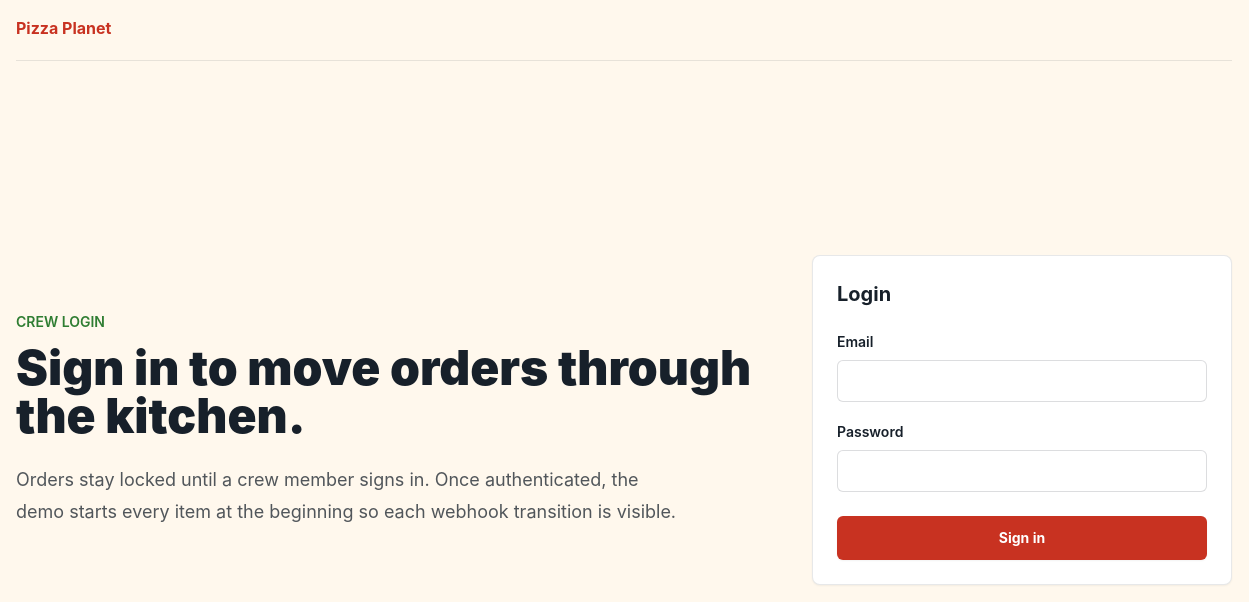
it: HomePage › keeps the user authenticated when initial order loading fails
Type "mario@pizzaplanet.test" into the field named "email" at (1022, 380), box [837,360,1207,402]
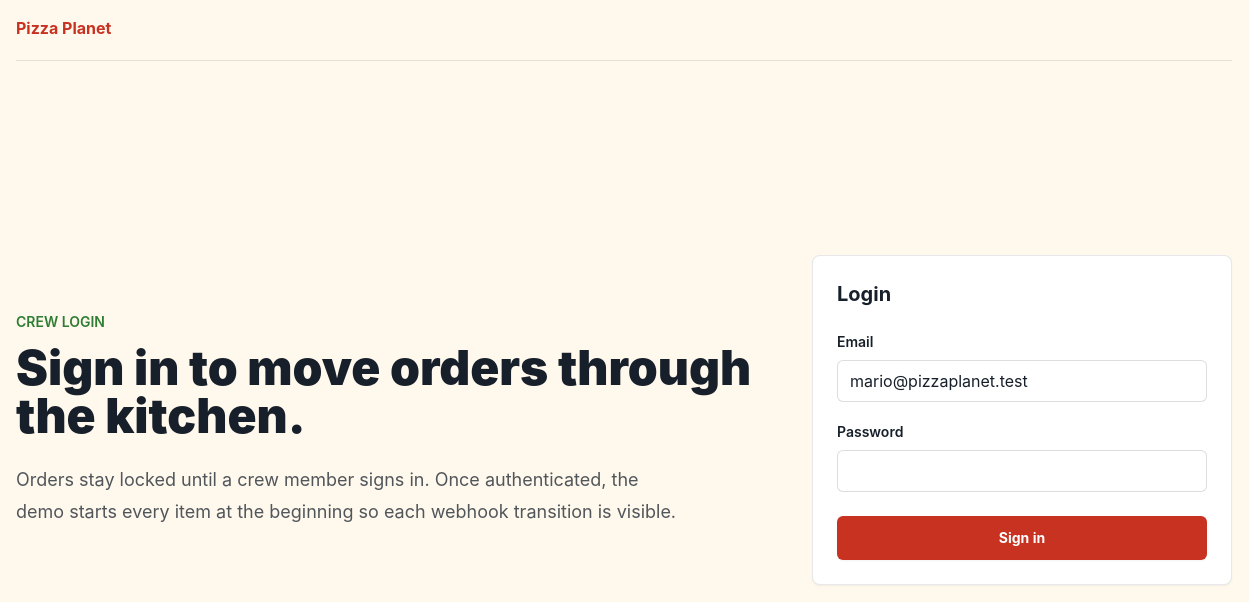
Type "ilovepizza" into the password field named "password" at (1022, 470), box [837,450,1207,492]
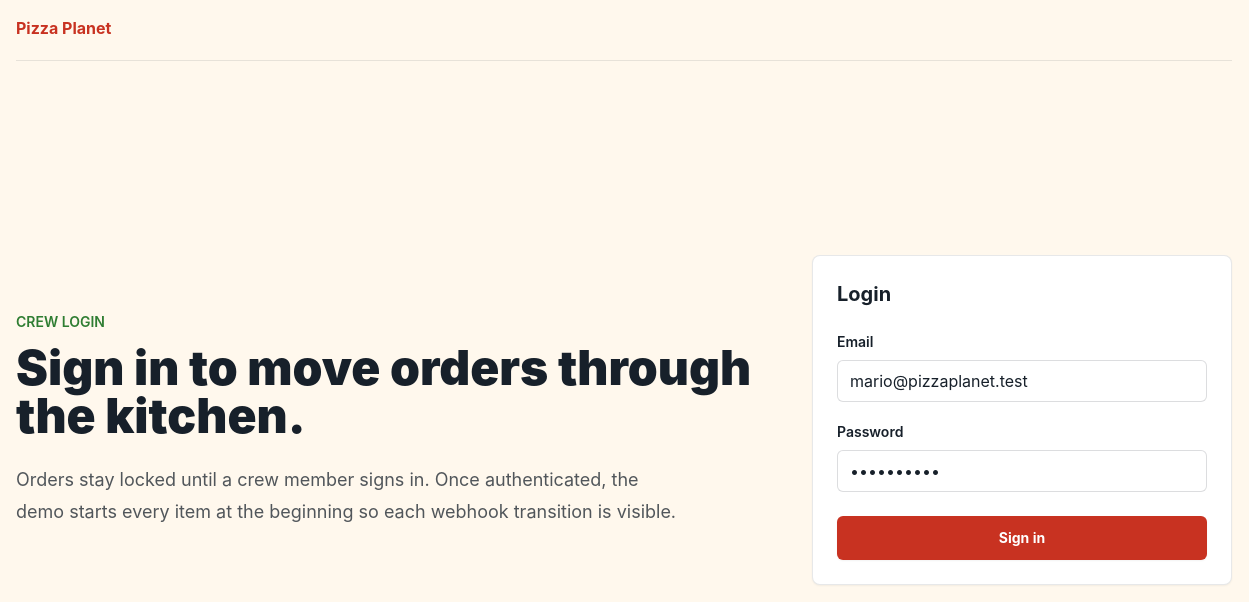
Submit the form, box [812,254,1232,584]
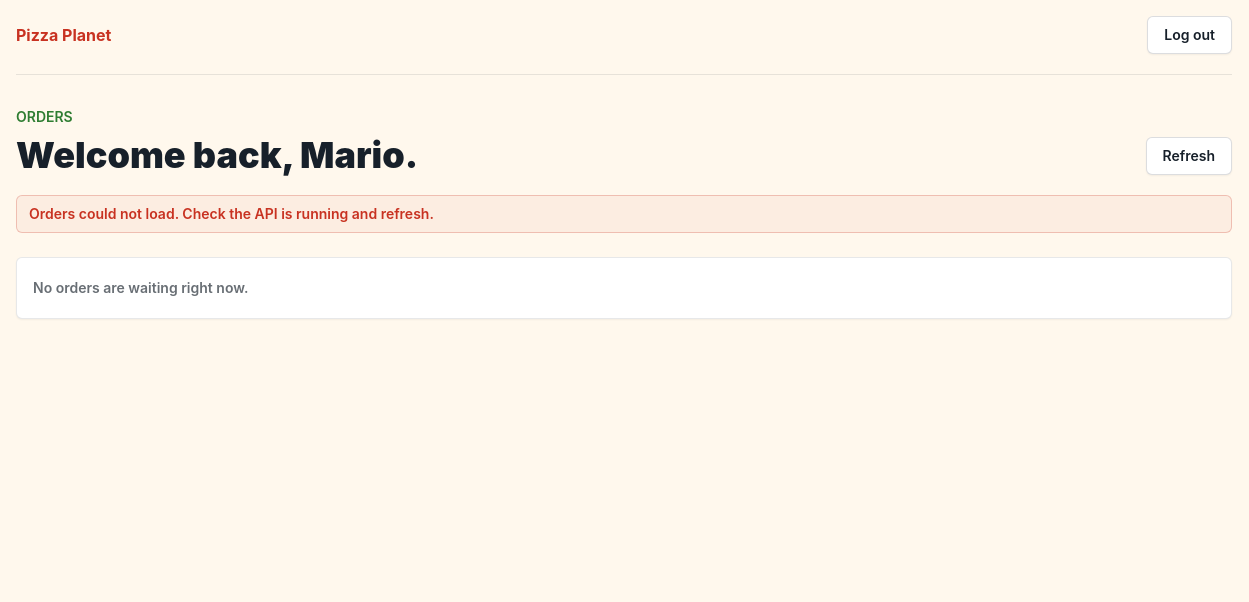
Check: the text "Welcome back, Mario." is shown, box [16,135,418,175]
Check: the text "Orders could not load. Check the API is running and refresh." is shown, box [16,195,1232,233]
